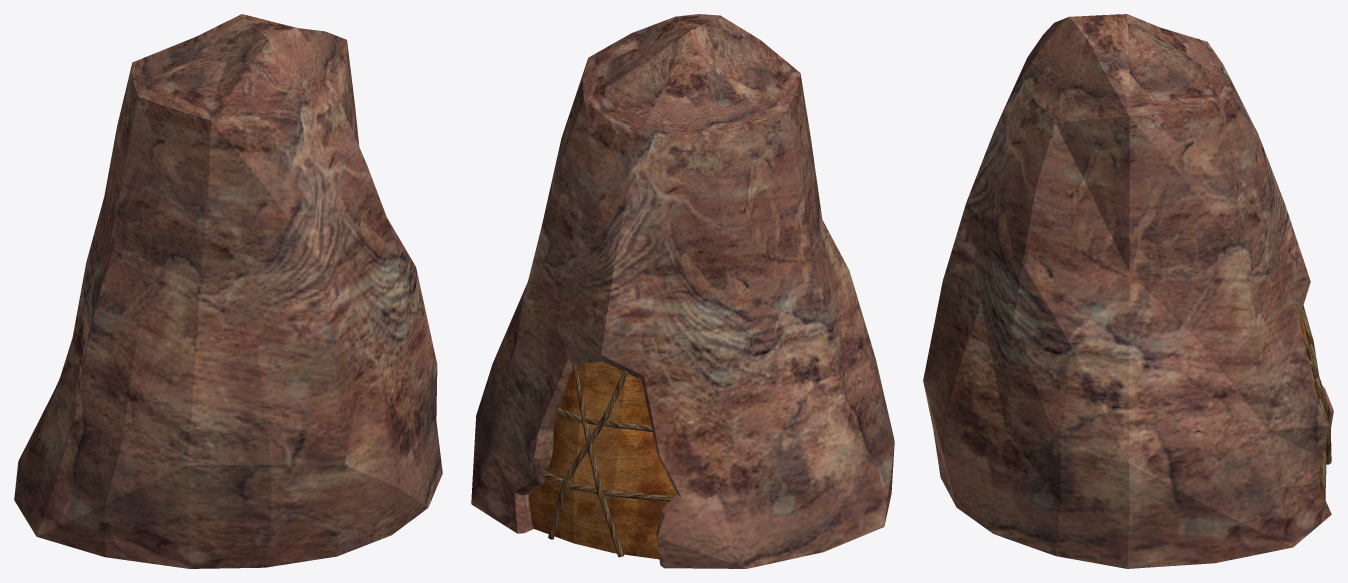
The model's file is thm_dath_night_sister_hut_s01_l1.fbx.
The picture shows the model from 3 angles, left to right: view 1: azimuth 30°, elevation 25°; view 2: azimuth 150°, elevation 25°; view 3: azimuth 270°, elevation 25°; orthographic projection. The views are drawn at different scales.
Visible parts, largest first — view 1: mesh_node; view 2: mesh_node; view 3: mesh_node.
Boxes of the visible parts, <box> form: mesh_node: <box>14,14,442,568</box>; mesh_node: <box>471,14,894,568</box>; mesh_node: <box>923,14,1333,568</box>.
Size of the model in its own units: 5.44 by 6.23 by 4.98.
